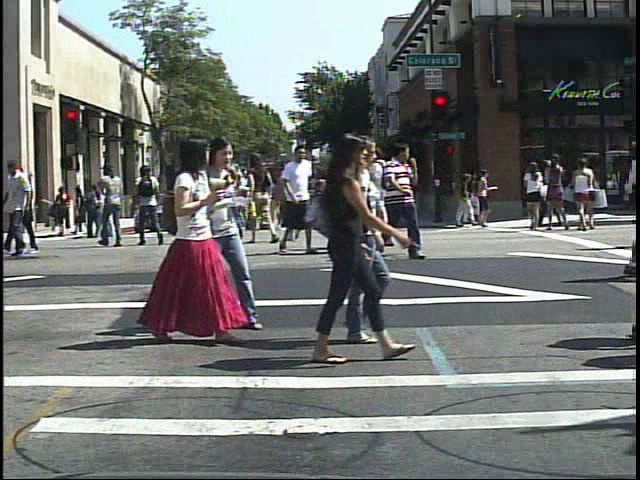person: (294, 128, 395, 366), (306, 137, 404, 348), (150, 129, 232, 346), (204, 129, 259, 331), (368, 136, 414, 260), (383, 136, 428, 262), (276, 138, 318, 259), (348, 137, 388, 250), (370, 142, 408, 250), (131, 159, 171, 252), (244, 150, 280, 243), (279, 147, 312, 248), (96, 161, 132, 250), (521, 157, 549, 235), (275, 165, 295, 233), (58, 183, 78, 233)
